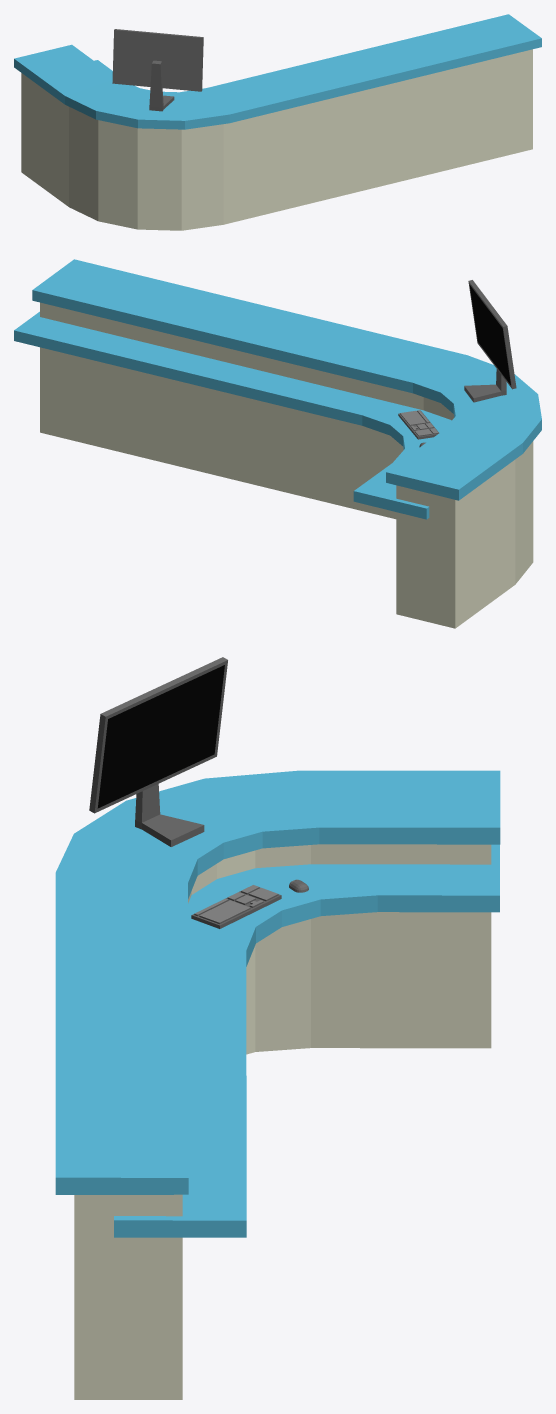
File: table02-hospital.fbx
3 renders of one model, top to bottom at view 1: azimuth 30°, elevation 25°; view 2: azimuth 150°, elevation 25°; view 3: azimuth 270°, elevation 25°, orthographic. The views are drawn at different scales.
Visible parts, largest first — view 1: table02-hospital; view 2: table02-hospital; view 3: table02-hospital.
Part boxes in pixels (x1,y1,x2,y2): table02-hospital: (14,14,541,230); table02-hospital: (14,259,541,628); table02-hospital: (55,657,500,1399).
Bounding box in the file's own units: 835 × 354 × 386.
